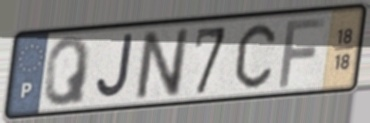7: (192, 25, 229, 96)
C: (233, 21, 278, 91)
F: (276, 15, 328, 90)
J: (93, 32, 135, 102)
N: (134, 26, 191, 102)
Q: (41, 34, 93, 109)
